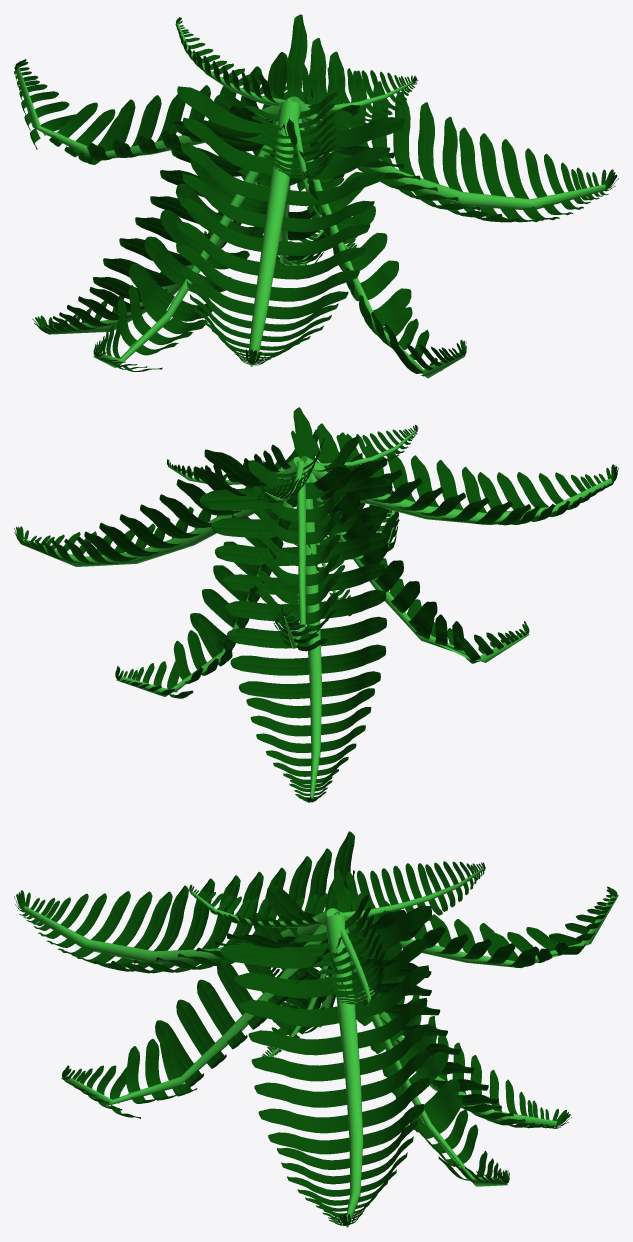
The model's file is Fern.FBX.
The picture shows the model from 3 angles, top to bottom: view 1: azimuth 30°, elevation 25°; view 2: azimuth 150°, elevation 25°; view 3: azimuth 270°, elevation 25°; orthographic projection. The views are drawn at different scales.
Parts seen in each view (by area): view 1: Cylinder13; view 2: Cylinder13; view 3: Cylinder13.
Part boxes in pixels (box(x1,y1,x2,y2)): Cylinder13: box(14, 14, 618, 378); Cylinder13: box(14, 407, 618, 802); Cylinder13: box(14, 831, 618, 1227).
Bounding box in the file's own units: 174 × 95.25 × 169.
